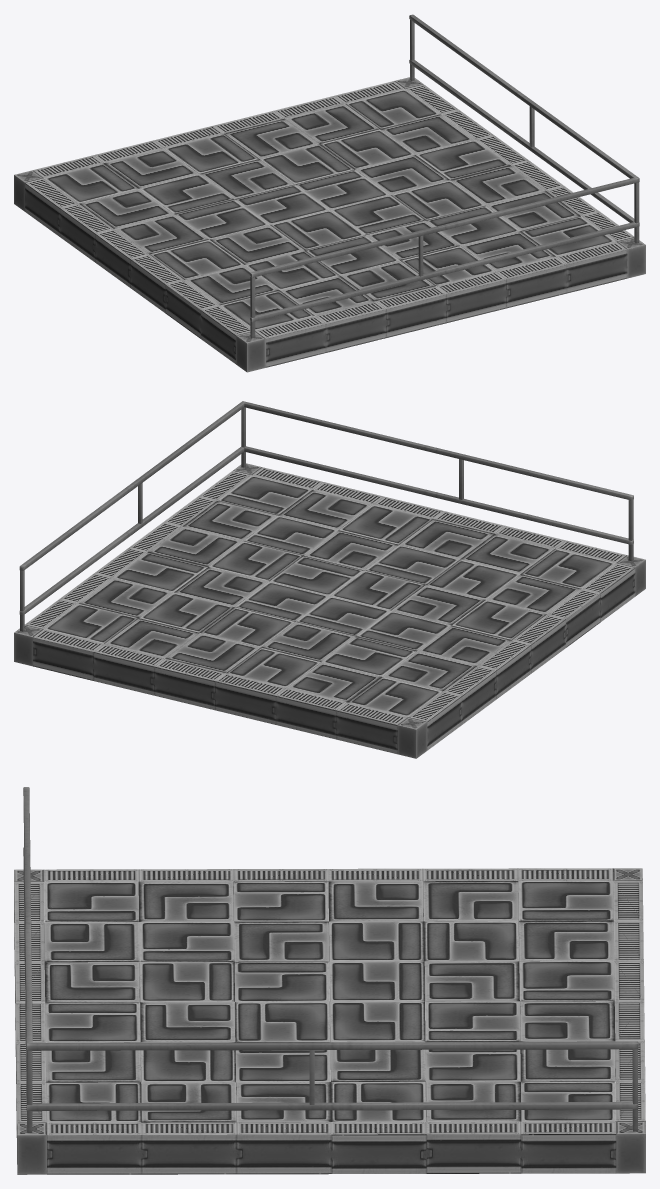
Rendered from ARC1110031.fbx.
3 renders of one model, top to bottom at view 1: azimuth 30°, elevation 25°; view 2: azimuth 150°, elevation 25°; view 3: azimuth 270°, elevation 25°, orthographic. The views are drawn at different scales.
Parts seen in each view (by area): view 1: smARC1110031; view 2: smARC1110031; view 3: smARC1110031.
Part boxes in pixels (bbox=[...]): smARC1110031: bbox=[14, 14, 645, 372]; smARC1110031: bbox=[14, 401, 645, 758]; smARC1110031: bbox=[14, 787, 645, 1174].
Bounding box in the file's own units: 531 × 118 × 531.
1 material, 1 textured.
